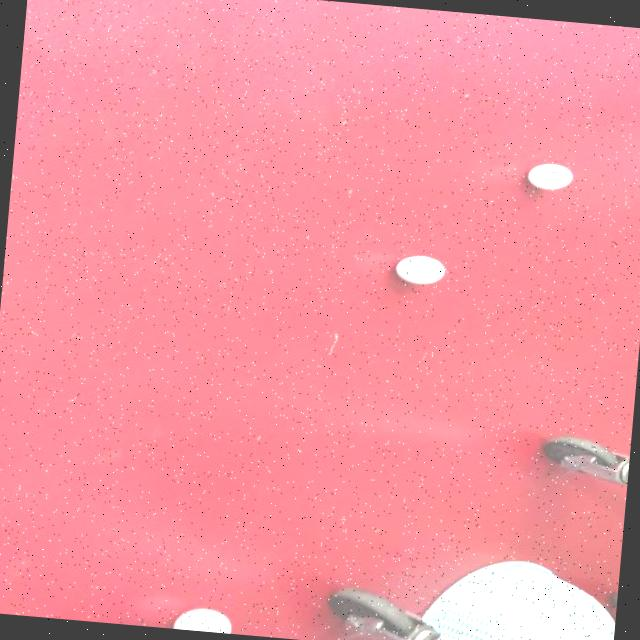ping-pong-ball: (174, 602, 238, 634), (394, 252, 449, 286), (524, 160, 574, 192)
